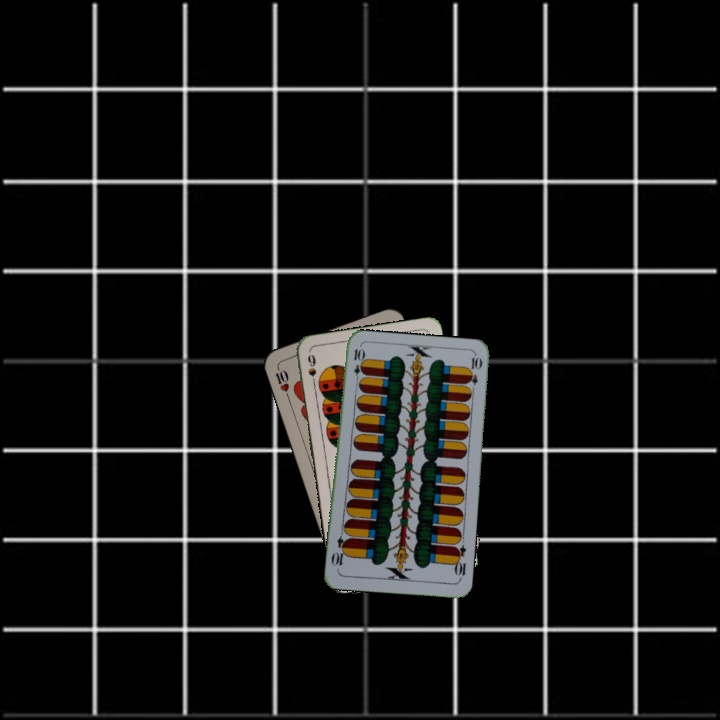E10: (449, 542, 469, 582), (350, 345, 365, 385)
H10: (271, 362, 292, 401)
S9: (303, 350, 319, 390)
